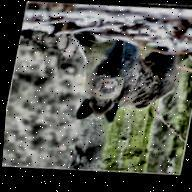boar: (68, 28, 188, 150)
